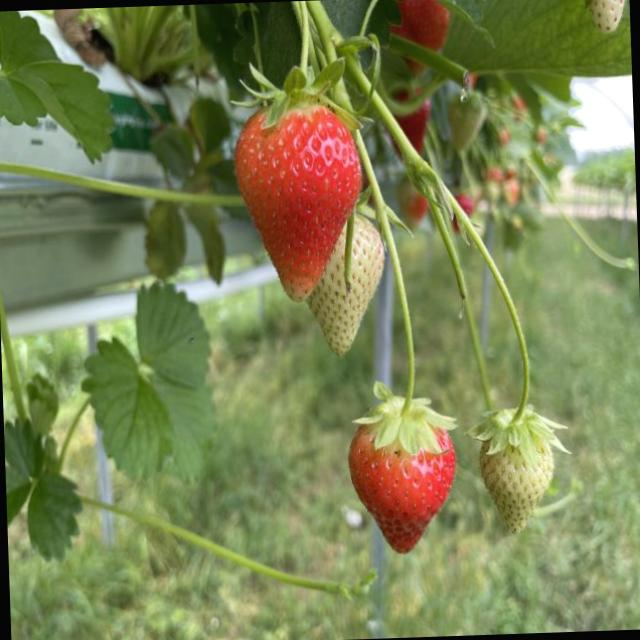stem: (353, 188, 452, 454), (473, 255, 566, 465), (237, 0, 359, 131)
strawberryNR: (312, 215, 383, 352), (479, 442, 551, 531)
strawberryR: (234, 107, 360, 294), (349, 424, 454, 551)
